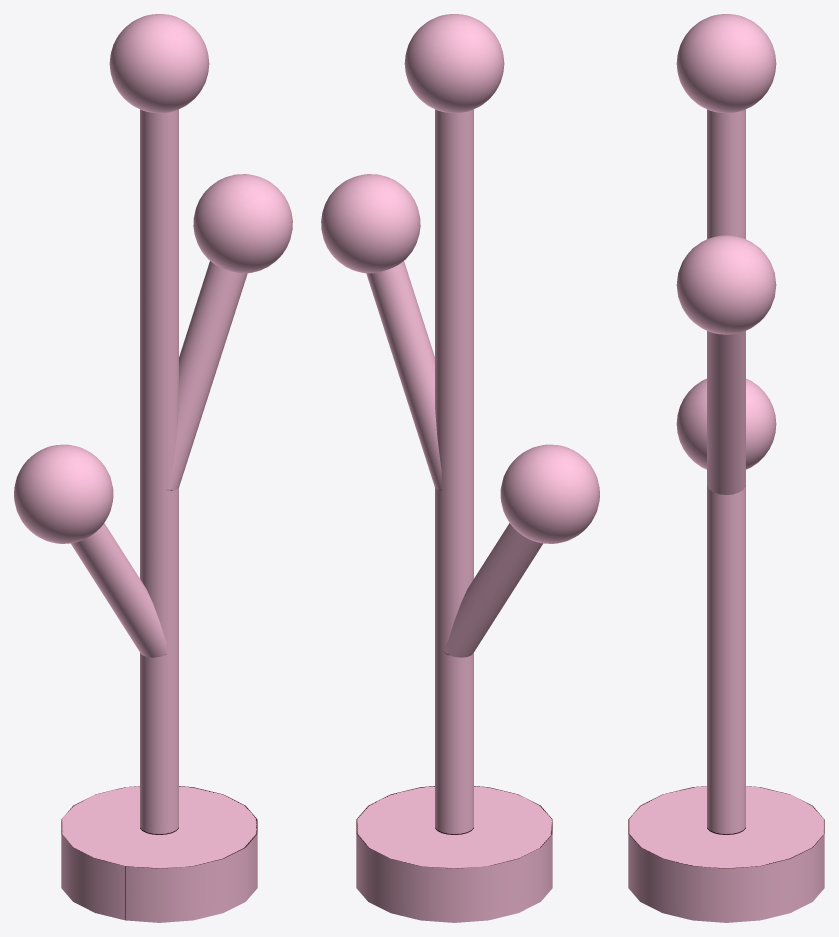
Rendered from Rabbit_Hanger.fbx.
3 views of the same model, side by side, from view 1: azimuth 30°, elevation 25°; view 2: azimuth 150°, elevation 25°; view 3: azimuth 270°, elevation 25° (orthographic).
Visible parts, largest first — view 1: Cylinder001; view 2: Cylinder001; view 3: Cylinder001.
Part boxes in pixels (x1,y1,x2,y2): Cylinder001: (14, 14, 292, 922); Cylinder001: (321, 14, 599, 922); Cylinder001: (628, 14, 824, 922).
Size of the model in its own units: 30.8 by 95.5 by 19.7.
1 material, 1 textured.
